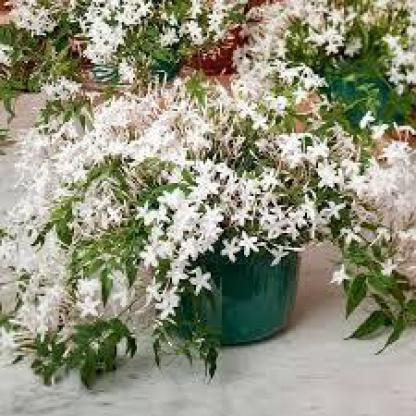Melati: (14, 119, 280, 360), (46, 82, 362, 271)
